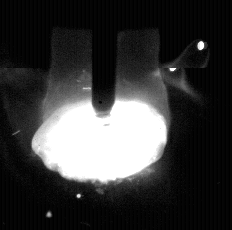arame: (92, 0, 117, 118)
poca: (41, 0, 170, 230)
